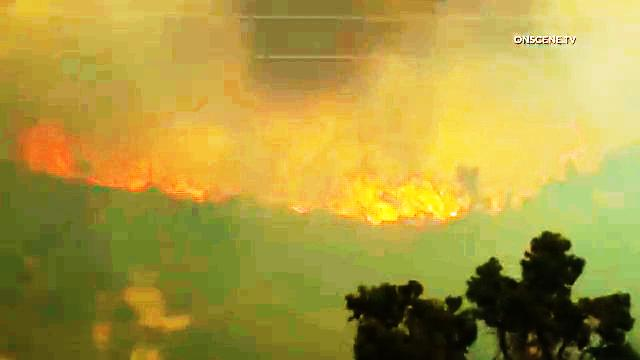fire: (332, 153, 463, 231)
